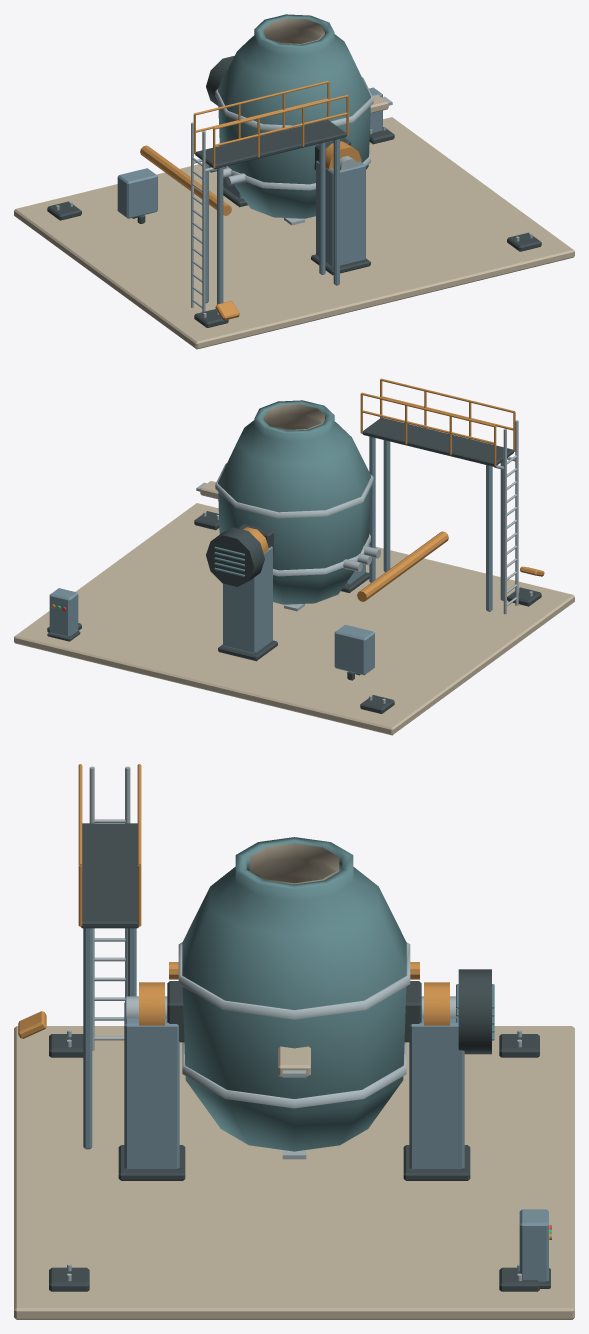
File: STS-HR-03-lod2.glb
The picture shows the model from 3 angles, top to bottom: view 1: azimuth 30°, elevation 25°; view 2: azimuth 150°, elevation 25°; view 3: azimuth 270°, elevation 25°; orthographic projection. The views are drawn at different scales.
Parts seen in each view (by area): view 1: foundation, refractory_vessel, far_pedestal, aod_service_deck, gas_valve_bank, refractory_lining, argon_manifold, aod_service_support_1_1, aod_service_support_-1_1, aod_service_support_1_-1, vessel_hoop_0.65, aod_service_ladder_rail_1 (+7 smaller); view 2: foundation, refractory_vessel, near_pedestal, aod_service_deck, tilt_gearbox, gas_valve_bank, control_cabinet, argon_manifold, refractory_lining, vessel_hoop_0.65, aod_service_support_1_1, aod_service_support_-1_-1 (+6 smaller); view 3: foundation, refractory_vessel, far_pedestal, near_pedestal, aod_service_deck, refractory_lining, tilt_gearbox, vessel_hoop_0.65, vessel_hoop_-0.7, aod_service_support_1_1, control_cabinet, far_bearing (+12 smaller).
Boxes of the visible parts, x1=… form: foundation: x1=14, y1=117, x2=574, y2=349; refractory_vessel: x1=218, y1=14, x2=370, y2=218; far_pedestal: x1=316, y1=160, x2=365, y2=267; aod_service_deck: x1=195, y1=119, x2=346, y2=169; gas_valve_bank: x1=117, y1=168, x2=157, y2=218; refractory_lining: x1=264, y1=18, x2=324, y2=44; argon_manifold: x1=140, y1=145, x2=231, y2=215; aod_service_support_1_1: x1=333, y1=139, x2=339, y2=285; aod_service_support_-1_1: x1=217, y1=167, x2=223, y2=304; aod_service_support_1_-1: x1=319, y1=142, x2=325, y2=274; vessel_hoop_0.65: x1=215, y1=77, x2=373, y2=131; aod_service_ladder_rail_1: x1=202, y1=131, x2=205, y2=311; foundation: x1=14, y1=503, x2=574, y2=735; refractory_vessel: x1=218, y1=400, x2=370, y2=604; near_pedestal: x1=223, y1=546, x2=272, y2=653; aod_service_deck: x1=362, y1=417, x2=513, y2=466; tilt_gearbox: x1=206, y1=527, x2=264, y2=586; gas_valve_bank: x1=334, y1=624, x2=374, y2=675; control_cabinet: x1=49, y1=588, x2=78, y2=637; argon_manifold: x1=357, y1=531, x2=448, y2=601; refractory_lining: x1=264, y1=404, x2=324, y2=430; vessel_hoop_0.65: x1=215, y1=463, x2=373, y2=518; aod_service_support_1_1: x1=383, y1=440, x2=390, y2=572; aod_service_support_-1_-1: x1=486, y1=465, x2=492, y2=611; foundation: x1=14, y1=1026, x2=574, y2=1319; refractory_vessel: x1=182, y1=837, x2=406, y2=1151; far_pedestal: x1=124, y1=1001, x2=179, y2=1170; near_pedestal: x1=409, y1=1018, x2=464, y2=1170; aod_service_deck: x1=80, y1=823, x2=139, y2=928; refractory_lining: x1=249, y1=843, x2=339, y2=884; tilt_gearbox: x1=458, y1=969, x2=491, y2=1054; vessel_hoop_0.65: x1=178, y1=942, x2=410, y2=1019; vessel_hoop_-0.7: x1=182, y1=1042, x2=406, y2=1108; aod_service_support_1_1: x1=83, y1=928, x2=92, y2=1149; control_cabinet: x1=519, y1=1209, x2=548, y2=1282; far_bearing: x1=139, y1=982, x2=164, y2=1025.
Bounding box in the file's own units: 9.1 × 4.75 × 7.6.
